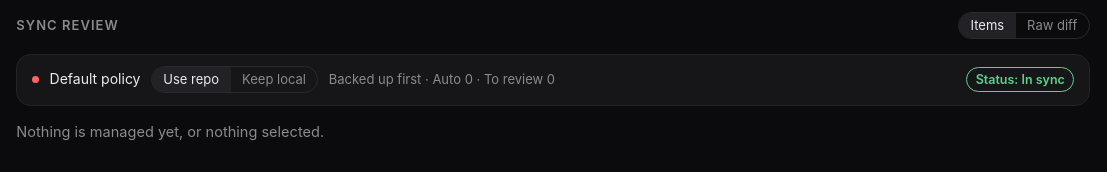
SyncState raw view › shows all-synced message when getDiff returns empty diffs
// Switch to raw view
Click the button "Raw diff" at (1052,26), box [1016,13,1089,38]
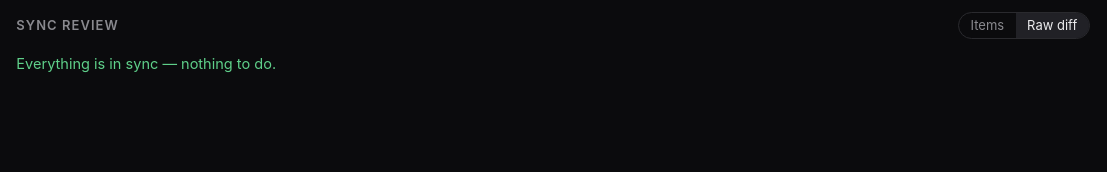
Expected: the text "Everything is in sync — nothing to do." is shown, [16,55,276,73]
